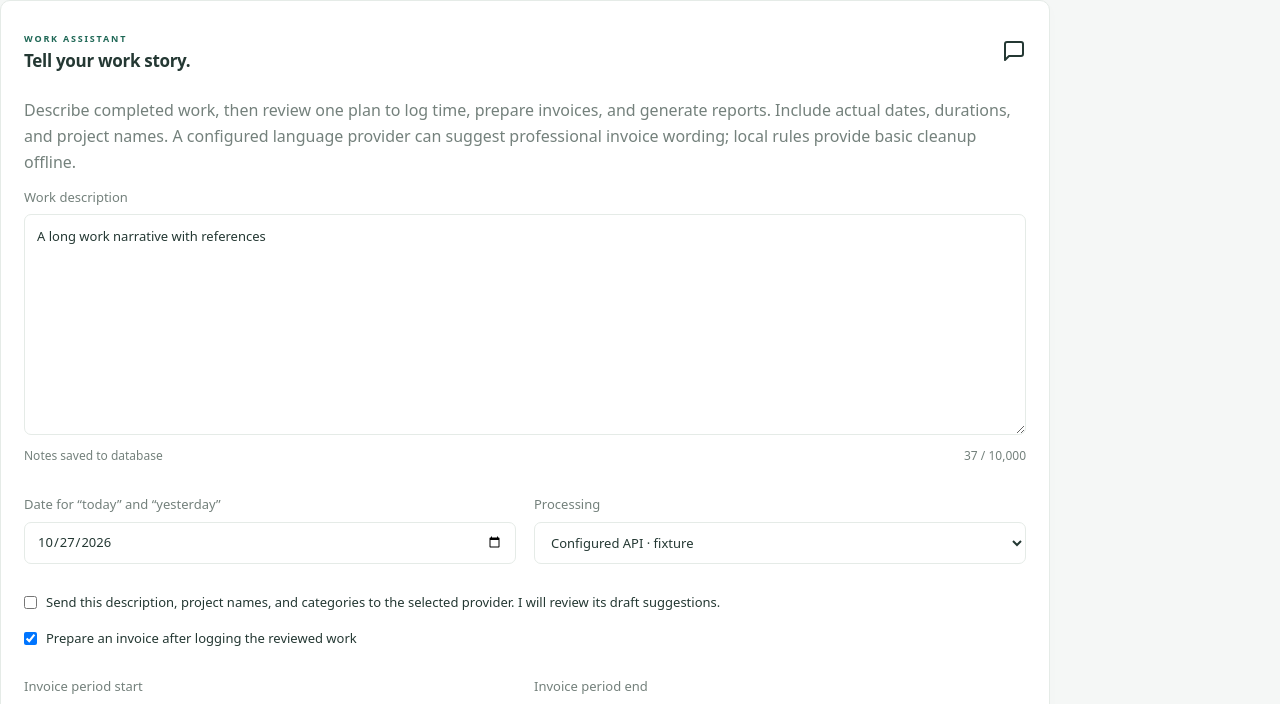
Test case: selects the first ready language provider and requires consent before processing
Expected: the dropdown named "Processing mode" shows "Configured API · fixture", [534,522,1026,564]
Click the checkbox labelled "Send this description" at (30, 602), box [24,596,37,608]
(page scrolled)
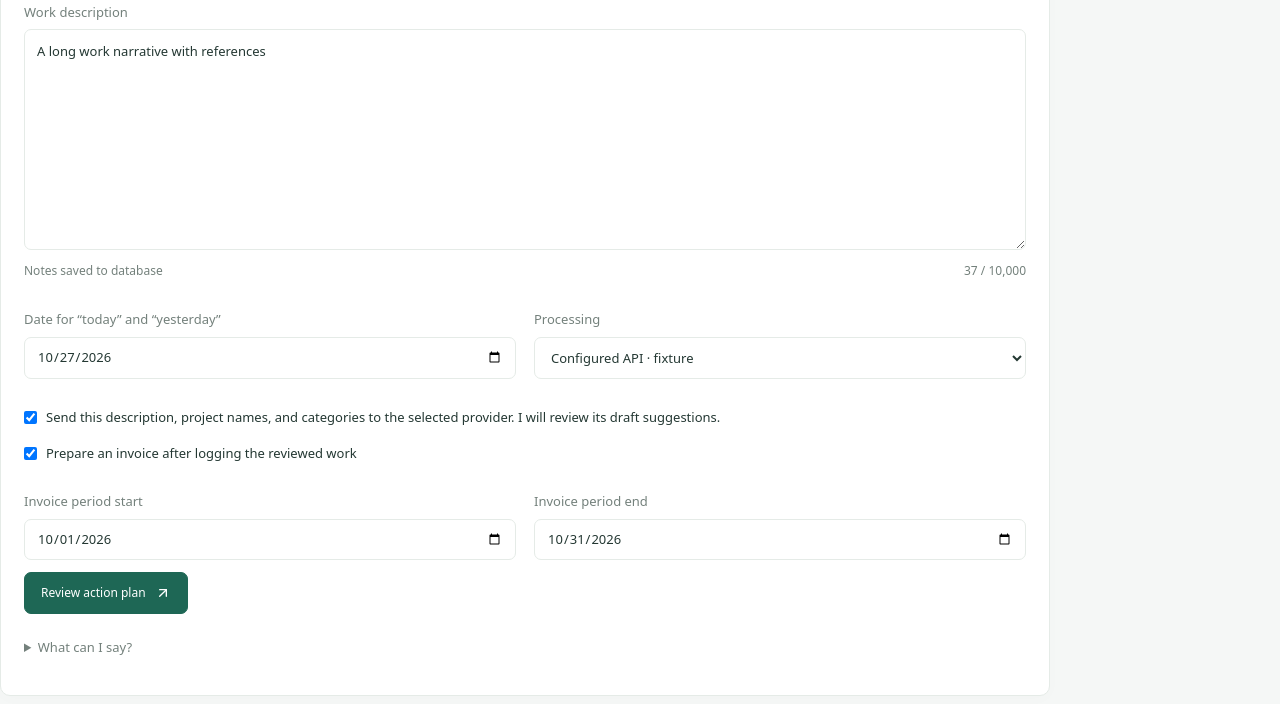
Now the button "Review action plan" is enabled, box [24,572,188,614]
